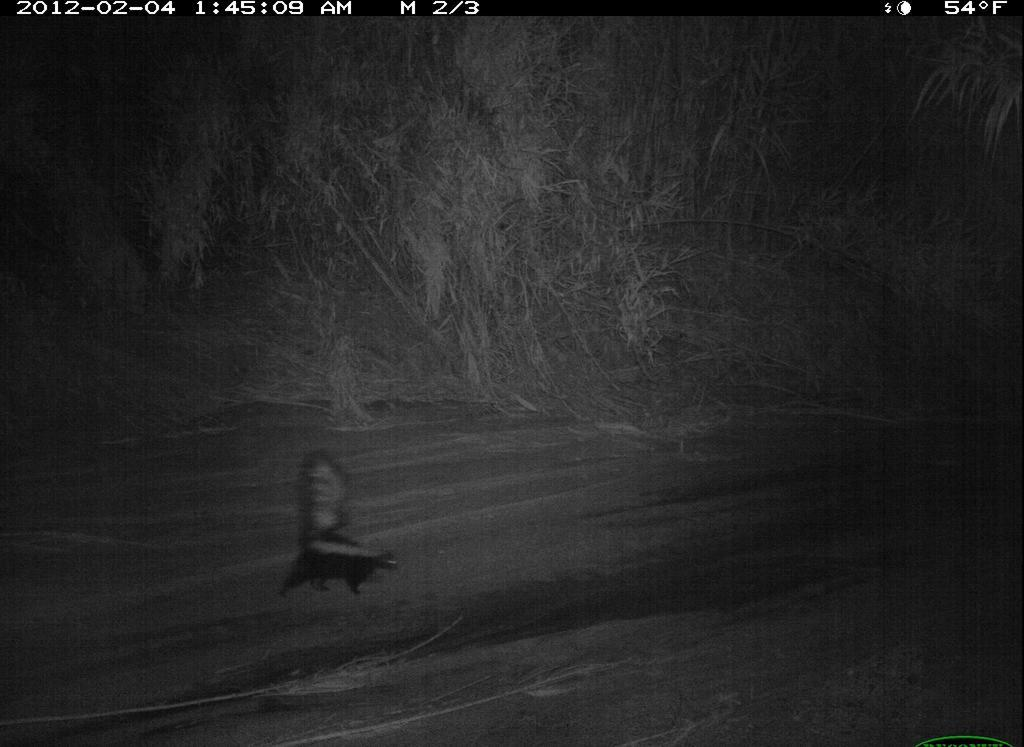skunk: (268, 434, 408, 626)
